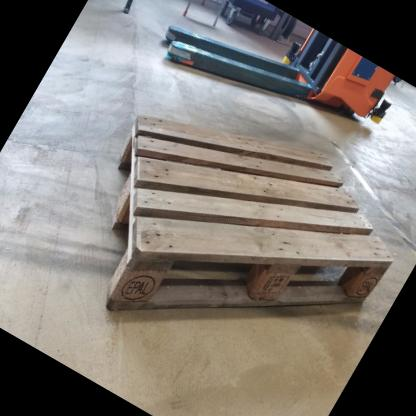BoxFace: (100, 113, 398, 319)
